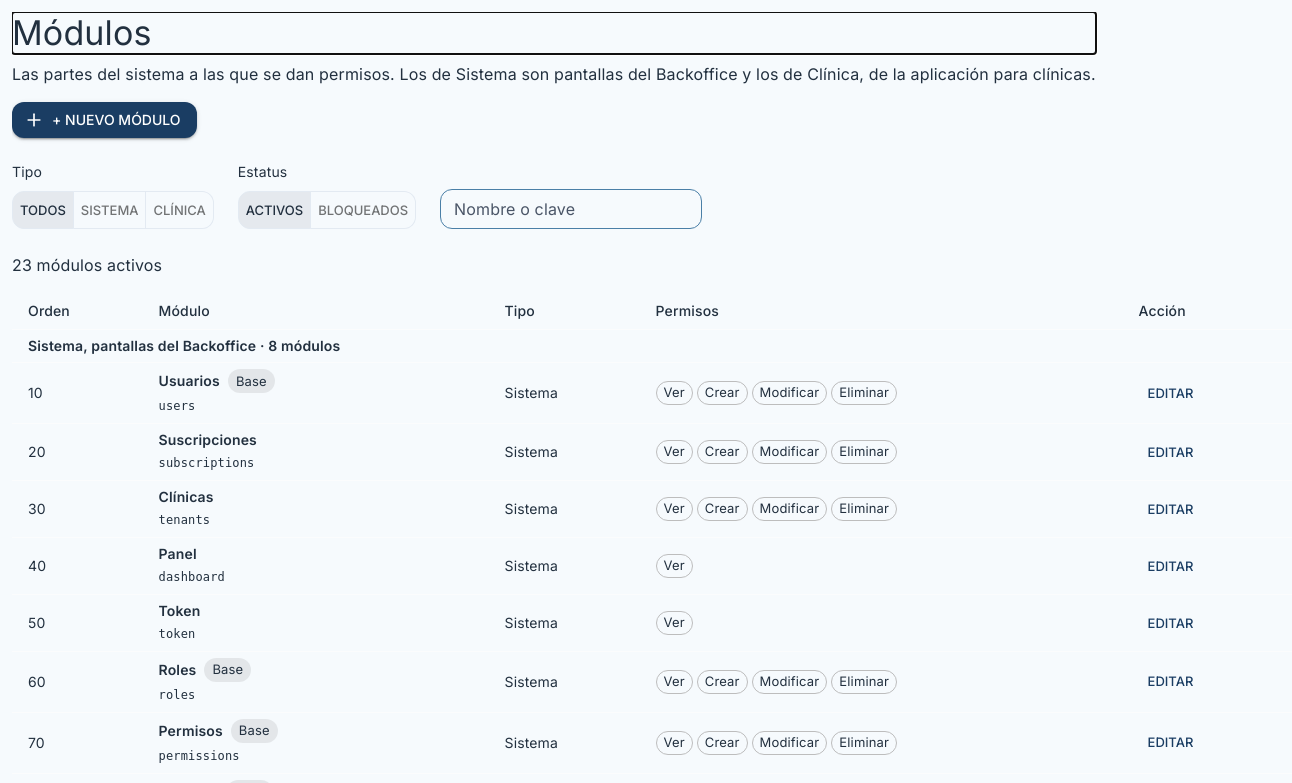
Scenario: ModulesPage › searching narrows the list to the matching module
Check: the text "23 módulos activos" is shown, box [12,255,162,275]
Type "agenda" into the field labelled "Nombre o clave".
click(571, 209); type("agenda")  # box [440,189,702,229]
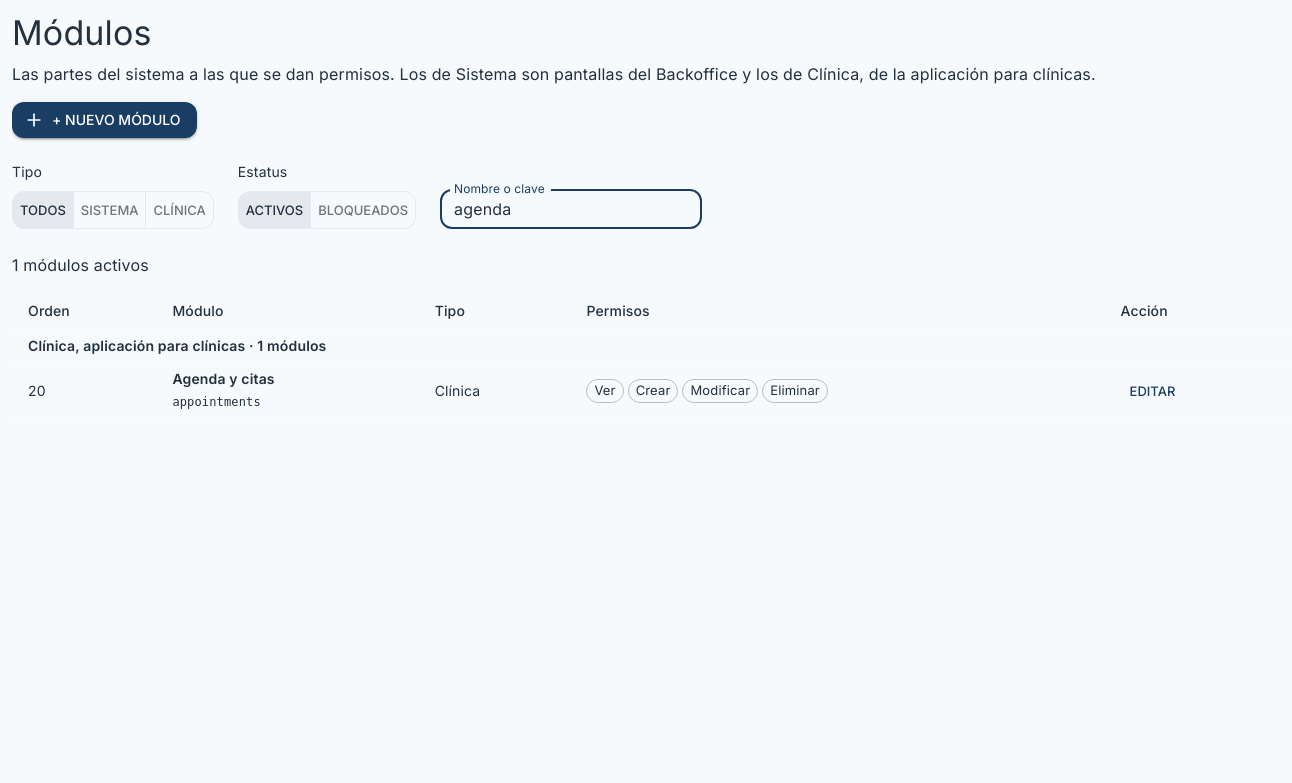
Check: the row "Agenda y citas" is shown, box [12,363,1291,420]
Check: the text "Usuarios" is gone
